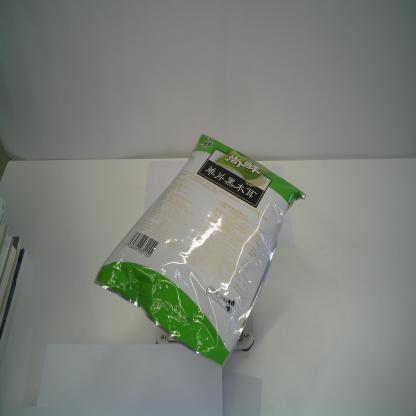Dried Food: (93, 134, 306, 368)
